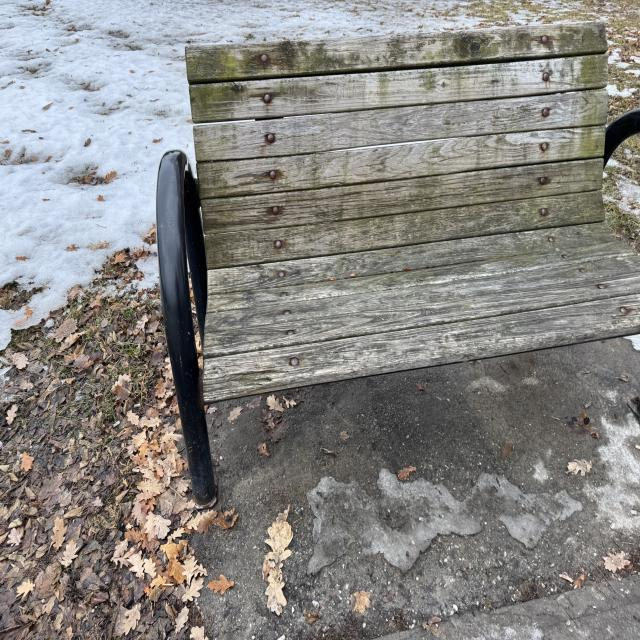Bench: (151, 31, 361, 494), (366, 29, 638, 358)
